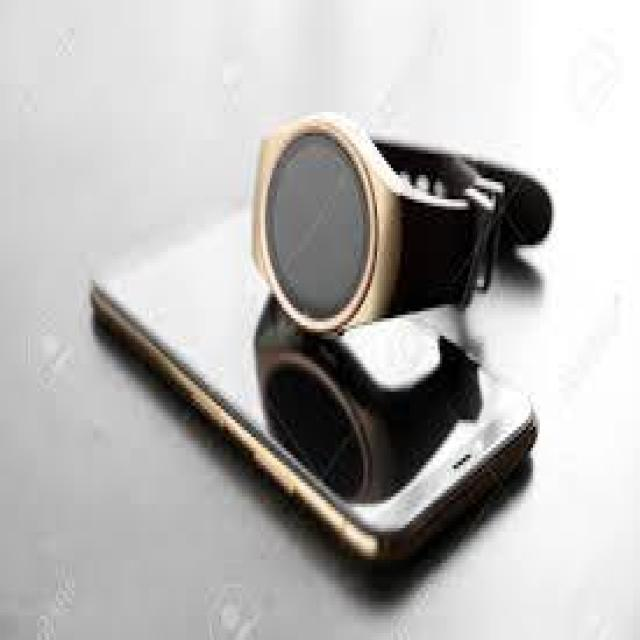smart phone: (138, 198, 531, 564)
watch: (248, 99, 509, 305)
